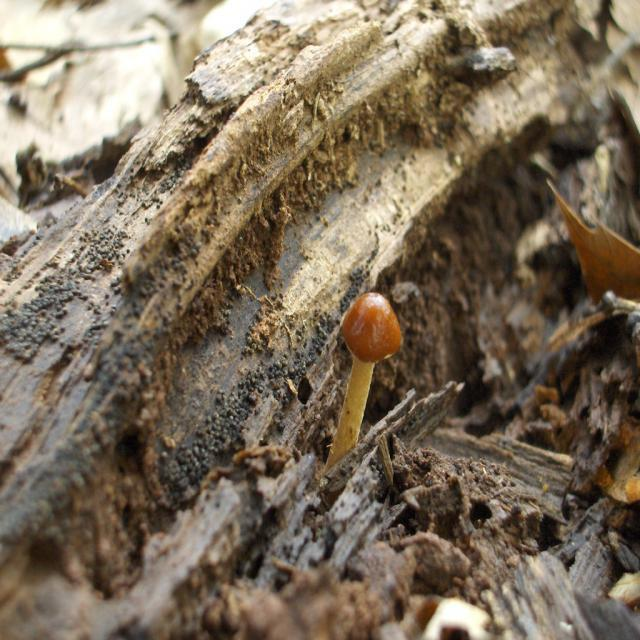Mushroom: (324, 292, 398, 468)
